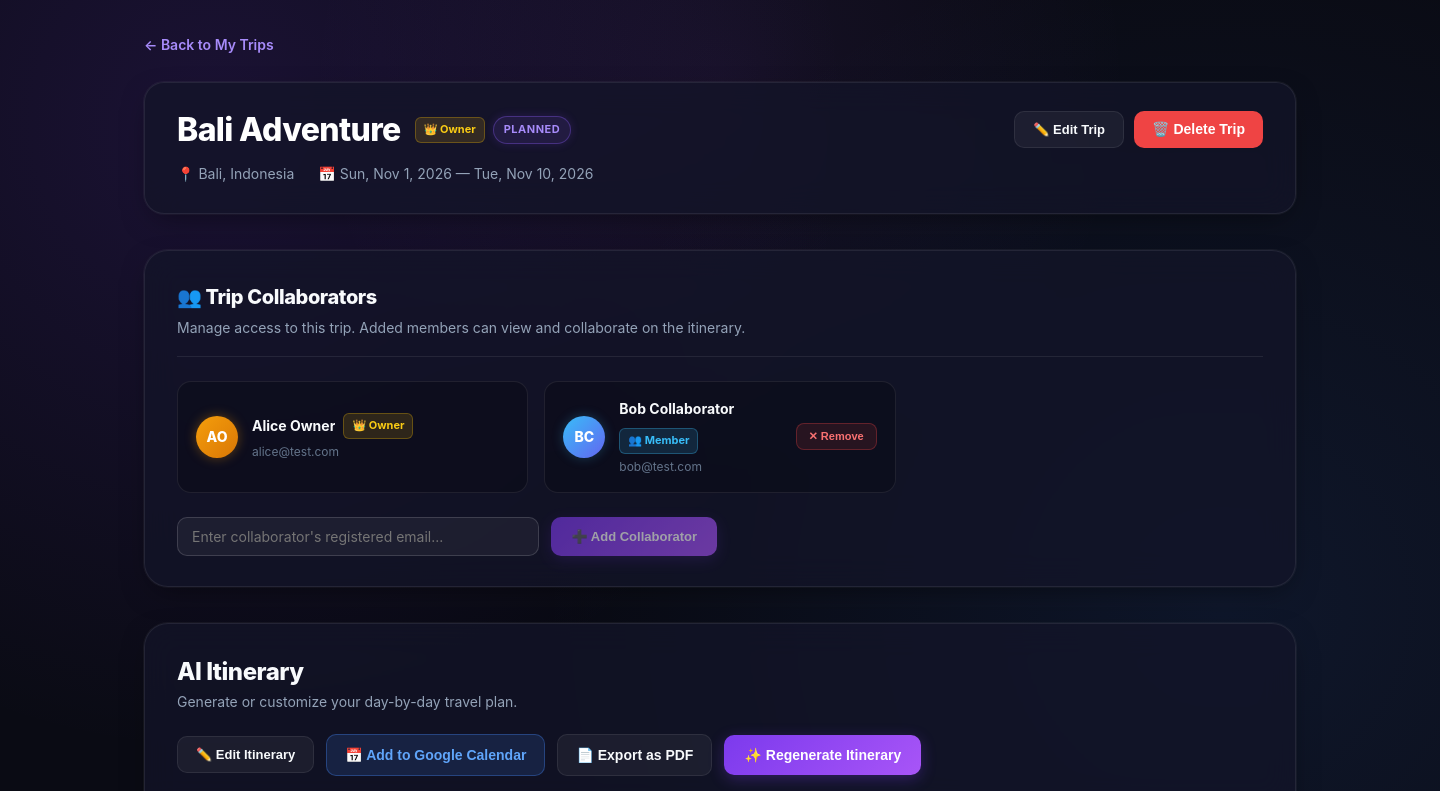
Test: TripDetailsPage Trip Collaboration › owner can remove a collaborator
Click the button with test id "remove-member-btn-2" at (836, 437), box [796, 423, 877, 450]
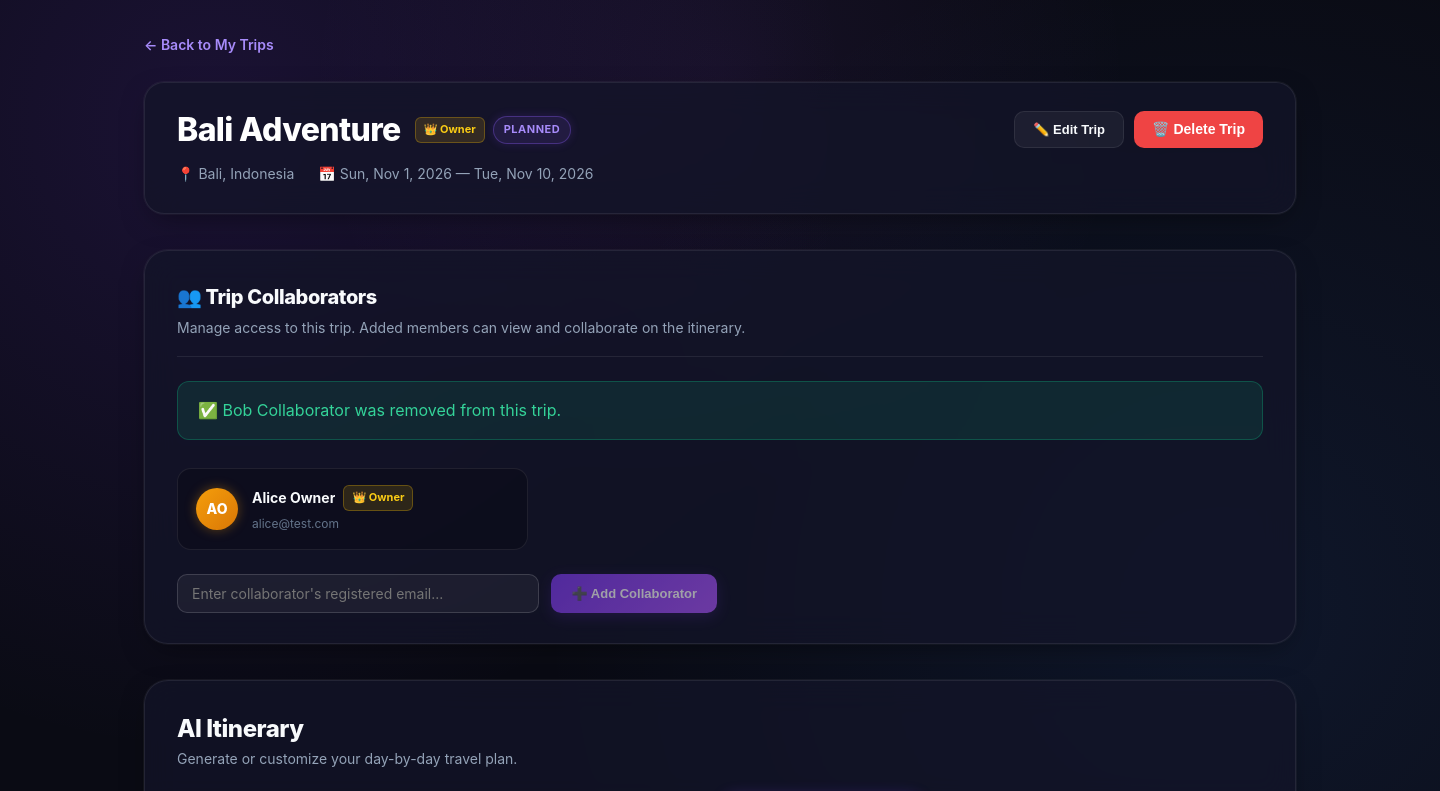
expect the element with test id "collaborator-card-2" is gone: met
